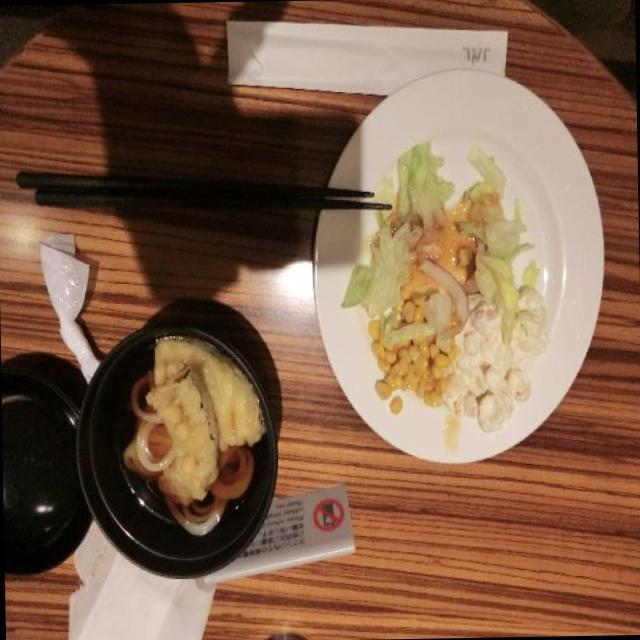Green Salad: (350, 166, 546, 420)
